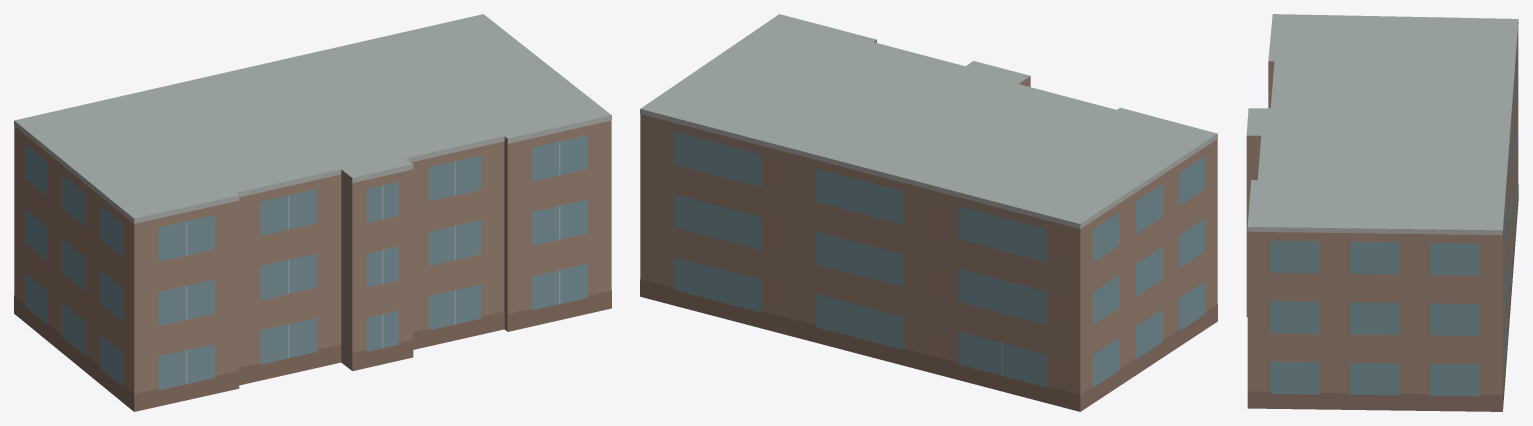
File: survey-upis-32832431.glb
3 views of the same model, side by side, from view 1: azimuth 30°, elevation 25°; view 2: azimuth 150°, elevation 25°; view 3: azimuth 270°, elevation 25° (orthographic). The views are drawn at different scales.
Parts seen in each view (by area): view 1: survey-upis-32832431.tmp; view 2: survey-upis-32832431.tmp; view 3: survey-upis-32832431.tmp.
Boxes of the visible parts, box(x1,y1,x2,y2) form: survey-upis-32832431.tmp: box(14, 14, 611, 411); survey-upis-32832431.tmp: box(640, 14, 1217, 411); survey-upis-32832431.tmp: box(1246, 14, 1518, 411).
Size of the model in its own units: 23.39 by 9.15 by 12.43.
